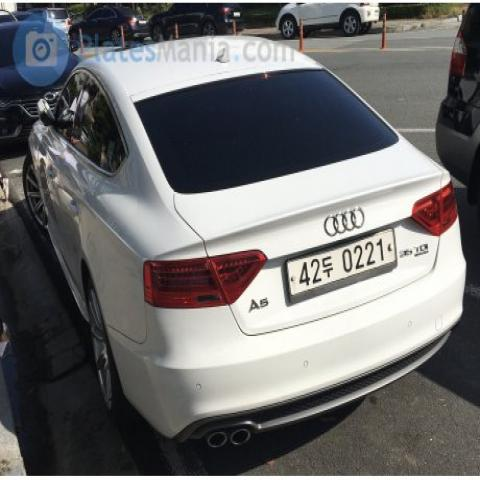LP: (266, 219, 407, 307)
